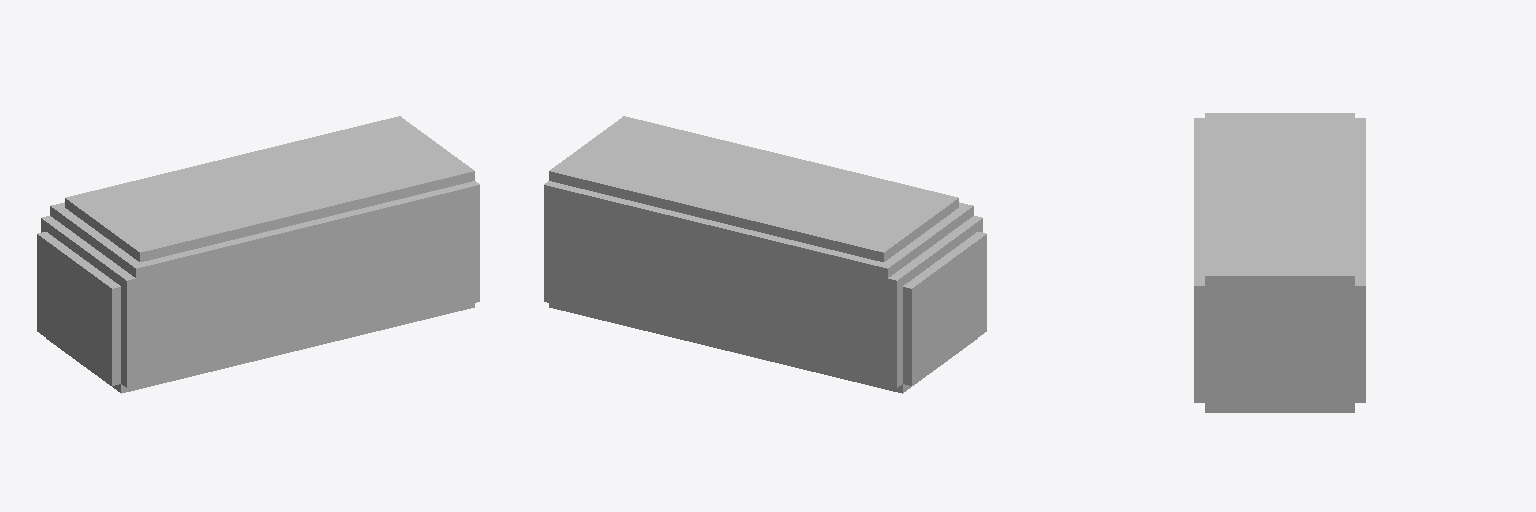
The model's file is Shoulder.obj.
The picture shows the model from 3 angles: view 1: azimuth 30°, elevation 25°; view 2: azimuth 150°, elevation 25°; view 3: azimuth 270°, elevation 25°; orthographic projection.
Visible parts, largest first — view 1: Untitled; view 2: Untitled; view 3: Untitled.
Boxes of the visible parts, <box> form: Untitled: <box>37,116,479,393</box>; Untitled: <box>544,116,986,393</box>; Untitled: <box>1194,113,1365,412</box>.
Size of the model in its own units: 3.9 by 1.4 by 1.6.